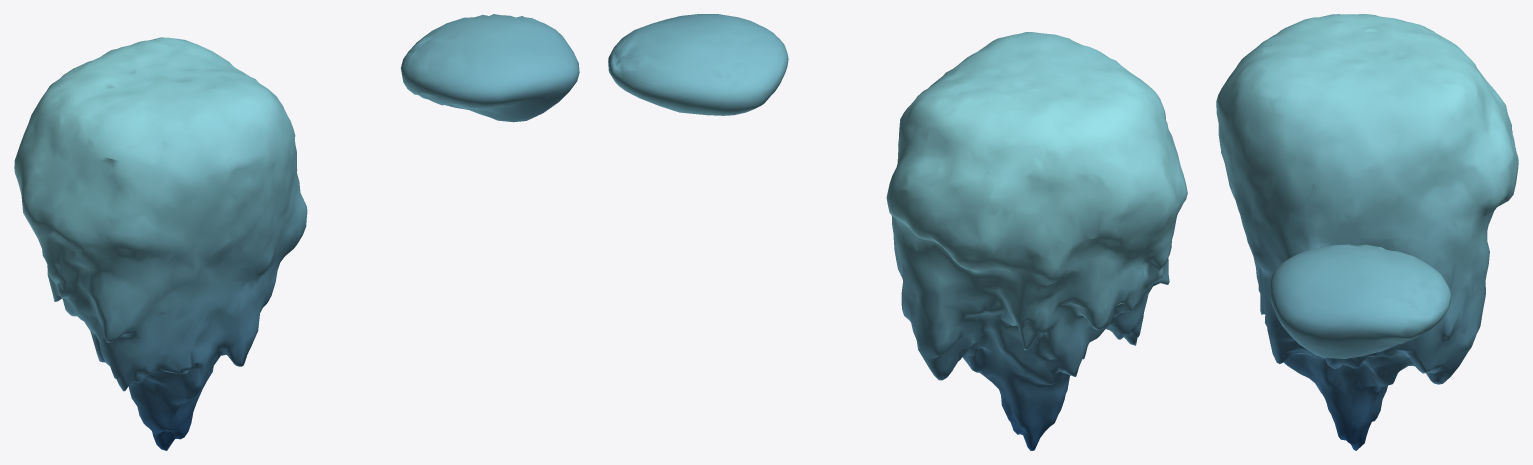
Rendered from Icebergs.fbx.
The picture shows the model from 3 angles, left to right: view 1: azimuth 30°, elevation 25°; view 2: azimuth 150°, elevation 25°; view 3: azimuth 270°, elevation 25°; orthographic projection. The views are drawn at different scales.
Visible parts, largest first — view 1: Cube, Cube.001; view 2: Cube, Cube.001; view 3: Cube, Cube.001.
Boxes of the visible parts, x1,y1,x2,y2 form: Cube: (14,37,307,450); Cube.001: (400,14,579,122); Cube: (886,32,1187,450); Cube.001: (608,14,788,115); Cube: (1216,14,1518,450); Cube.001: (1269,244,1450,358).
Bounding box in the file's own units: 588 × 394 × 268.
Materials: 1 (1 with a texture image).
